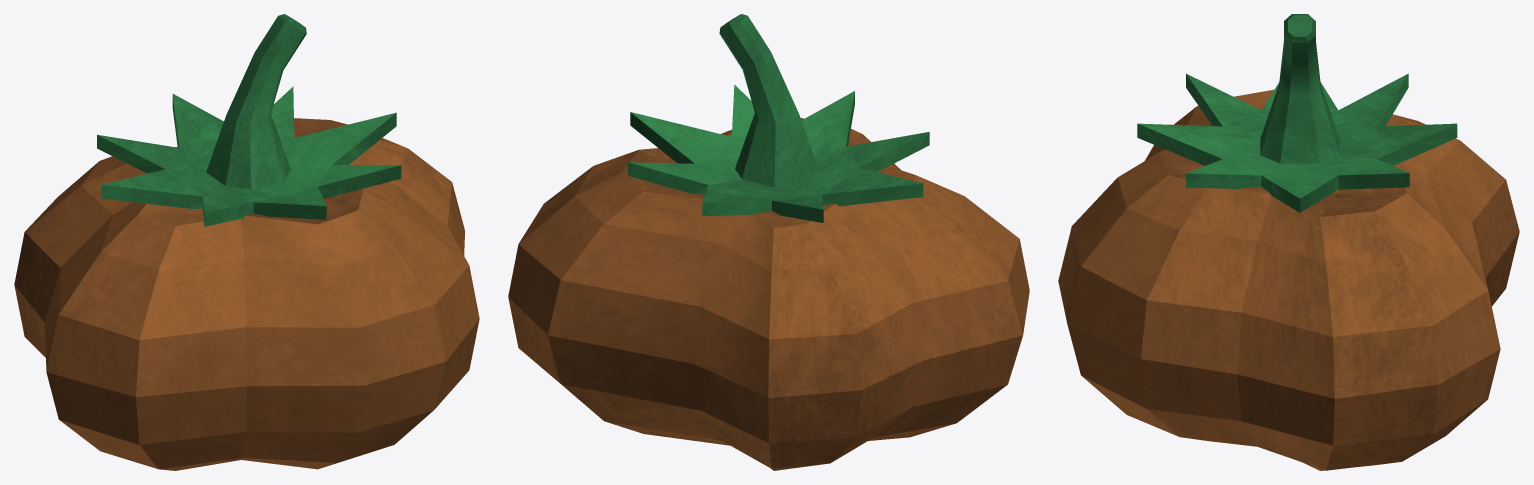
Rendered from Pumpkin.fbx.
3 views of the same model, side by side, from view 1: azimuth 30°, elevation 25°; view 2: azimuth 150°, elevation 25°; view 3: azimuth 270°, elevation 25° (orthographic). The views are drawn at different scales.
Parts seen in each view (by area): view 1: Carbassa, Palo4; view 2: Carbassa, Palo4; view 3: Carbassa, Palo4.
Part boxes in pixels (left/top/right/bottom): Carbassa: left=14, top=118, right=479, bottom=470; Palo4: left=97, top=14, right=401, bottom=226; Carbassa: left=508, top=118, right=1029, bottom=470; Palo4: left=628, top=14, right=929, bottom=222; Carbassa: left=1058, top=89, right=1519, bottom=470; Palo4: left=1137, top=14, right=1457, bottom=212.
Bounding box in the file's own units: 172 × 141 × 144.
Materials: 2 (2 with a texture image).
